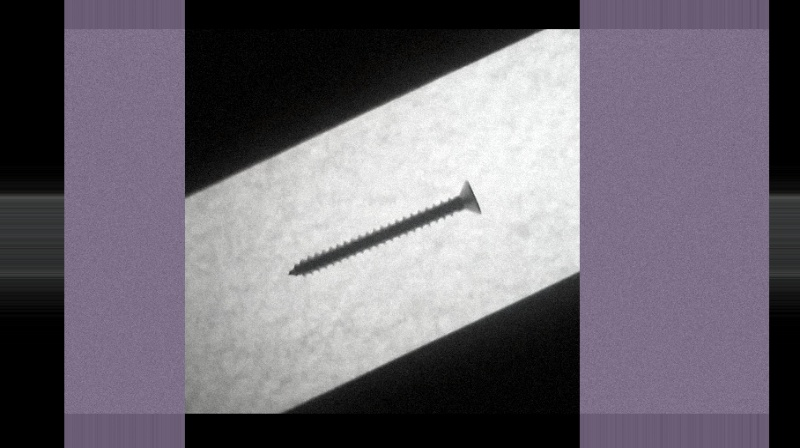S002: (287, 175, 485, 278)
